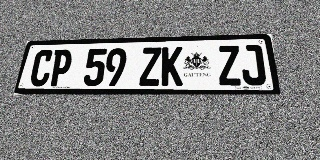5: (83, 48, 107, 86)
9: (104, 48, 127, 86)
C: (28, 50, 55, 86)
J: (239, 45, 267, 85)
K: (161, 47, 183, 86)
P: (48, 49, 73, 86)
Z: (217, 45, 242, 85), (139, 47, 161, 86)
